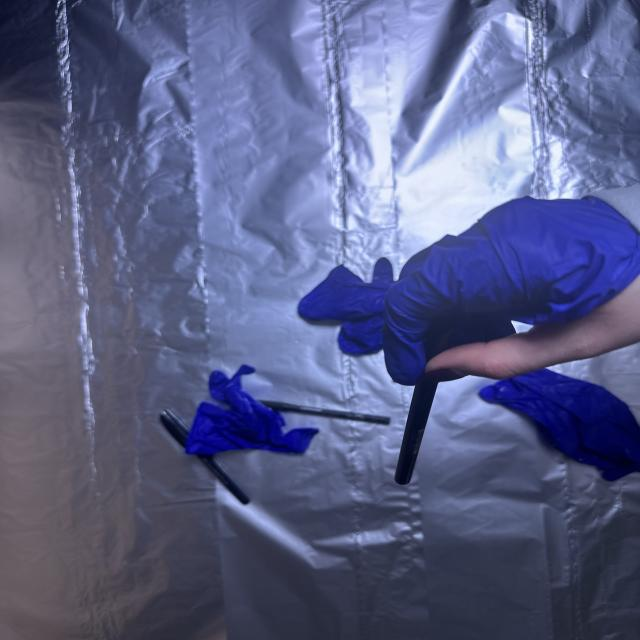glove_partial: (382, 188, 640, 385)
